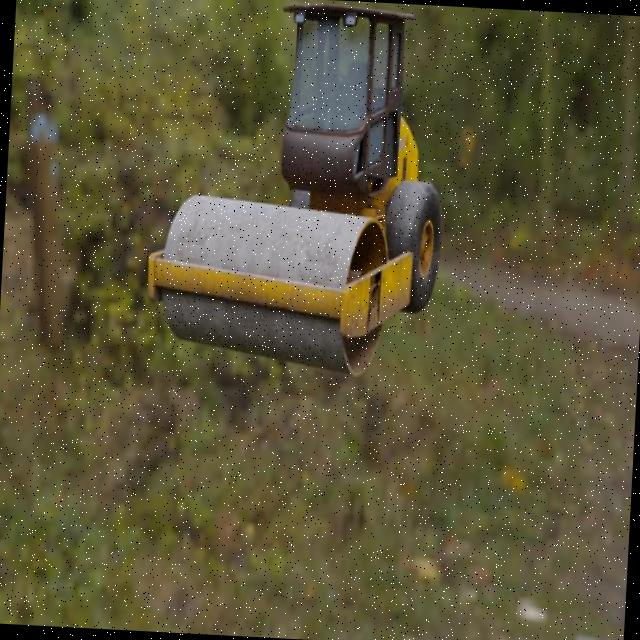Roller: (142, 0, 453, 379)
